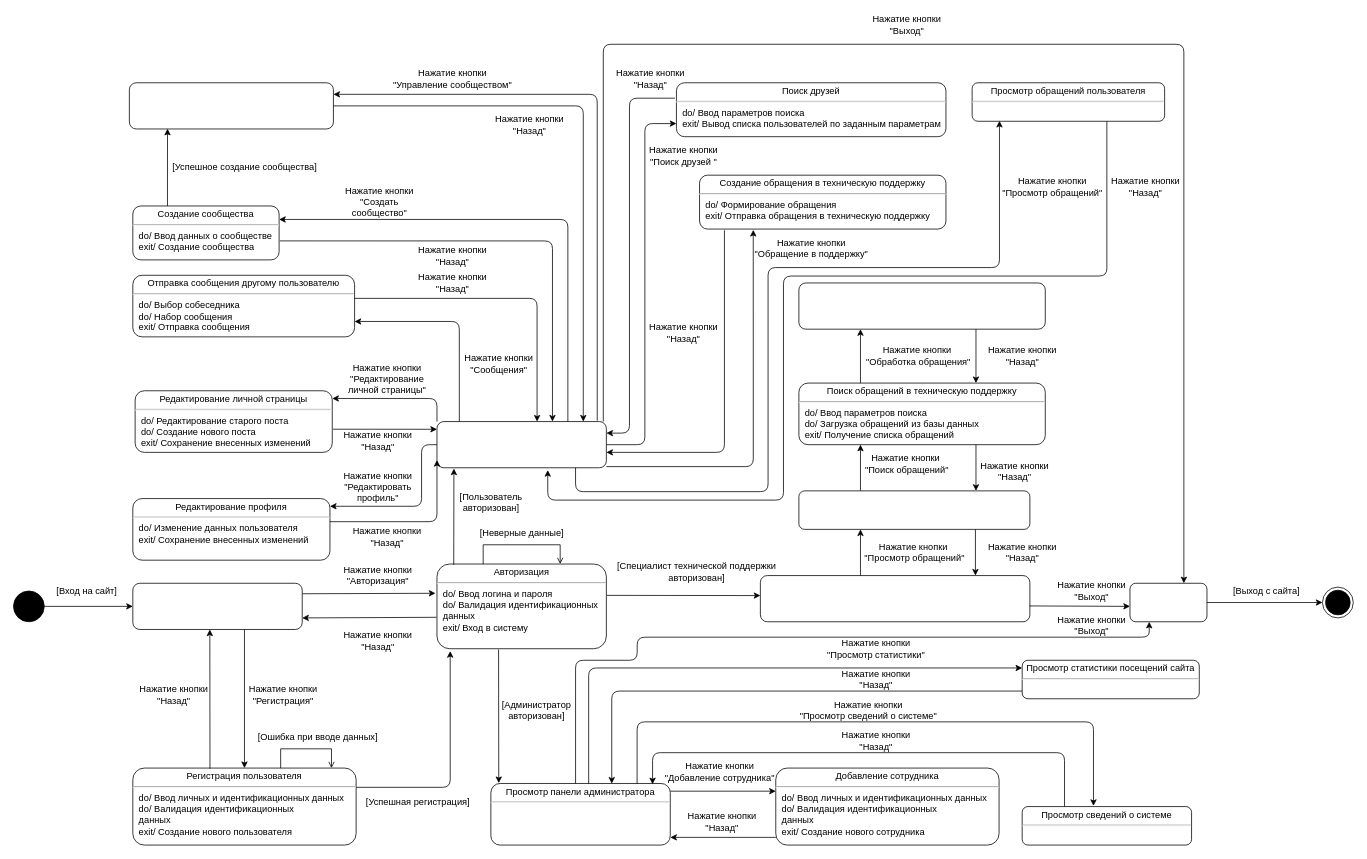
The diagram is 1367 pixels wide and 859 high, and some of its shapes have lost their labels. Each missing label, with the centre of its shape:
"Выход" goes at pixel 1168 602.
"Обработка обращений в техническую поддержку exit/ Сохранение внесенных изменений" goes at pixel 921 305.
"Просмотр главной страницы" goes at pixel 217 606.
"Просмотр обращений" goes at pixel 914 509.
"Просмотр страницы пользователя" goes at pixel 521 444.
"Просмотр страницы специалиста технической поддержки" goes at pixel 895 598.
"Управление сообществом exit/ Сохранение внесенных изменений" goes at pixel 231 105.
